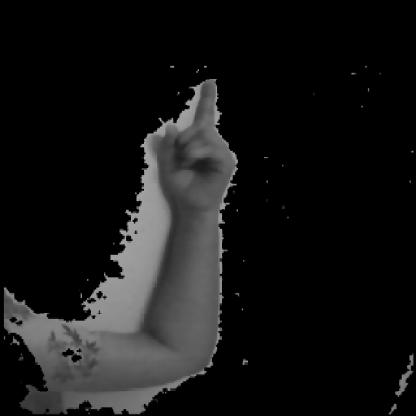one: (80, 73, 250, 369)
